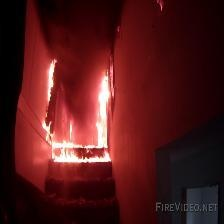fire: (45, 54, 120, 162)
